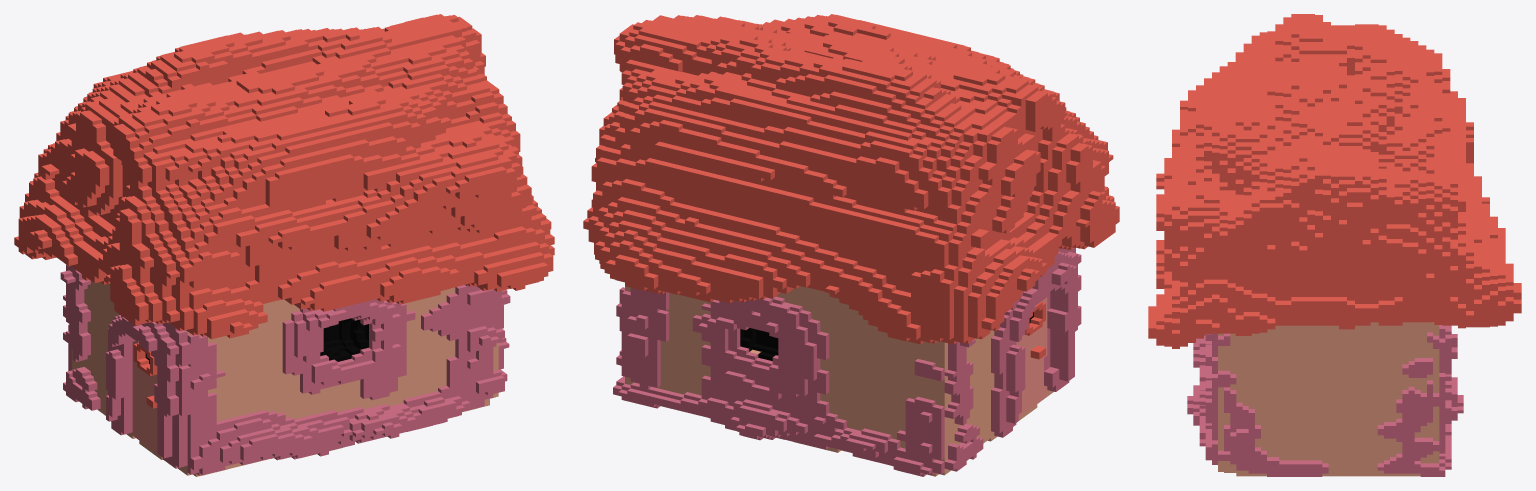
Rendered from CoralHouse1.fbx.
3 renders of one model, left to right at view 1: azimuth 30°, elevation 25°; view 2: azimuth 150°, elevation 25°; view 3: azimuth 270°, elevation 25°, orthographic. The views are drawn at different scales.
Visible parts, largest first — view 1: Cube.012; view 2: Cube.012; view 3: Cube.012.
Part boxes in pixels (x1=…): Cube.012: x1=14, y1=14, x2=554, y2=476; Cube.012: x1=583, y1=14, x2=1119, y2=476; Cube.012: x1=1148, y1=14, x2=1521, y2=476.
Size of the model in its own units: 434 by 347 by 348.
